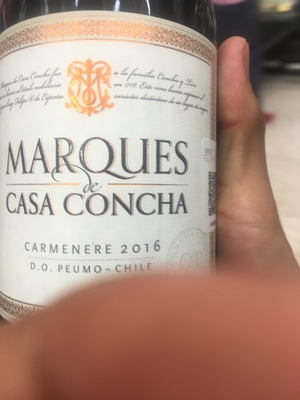marques de casa concha carmenere: (1, 12, 222, 317)
